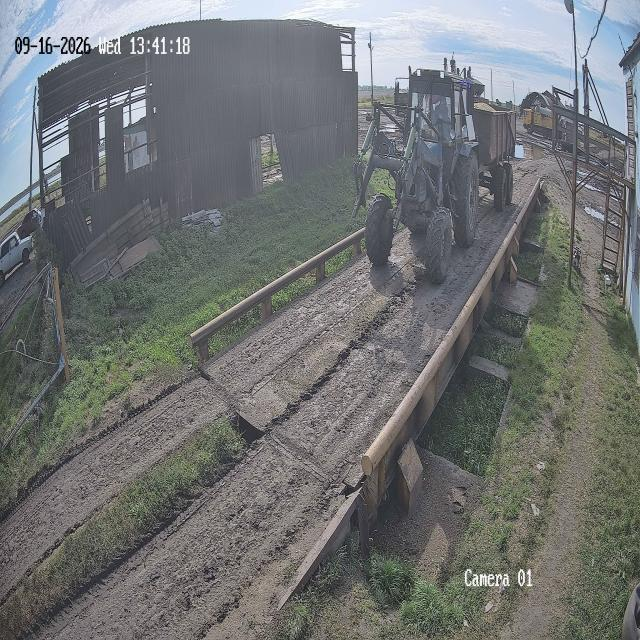tractor: (373, 74, 474, 261), (465, 74, 465, 75)
trailer: (473, 103, 516, 210)
truck: (522, 105, 552, 138), (452, 61, 454, 67), (402, 100, 403, 101)
